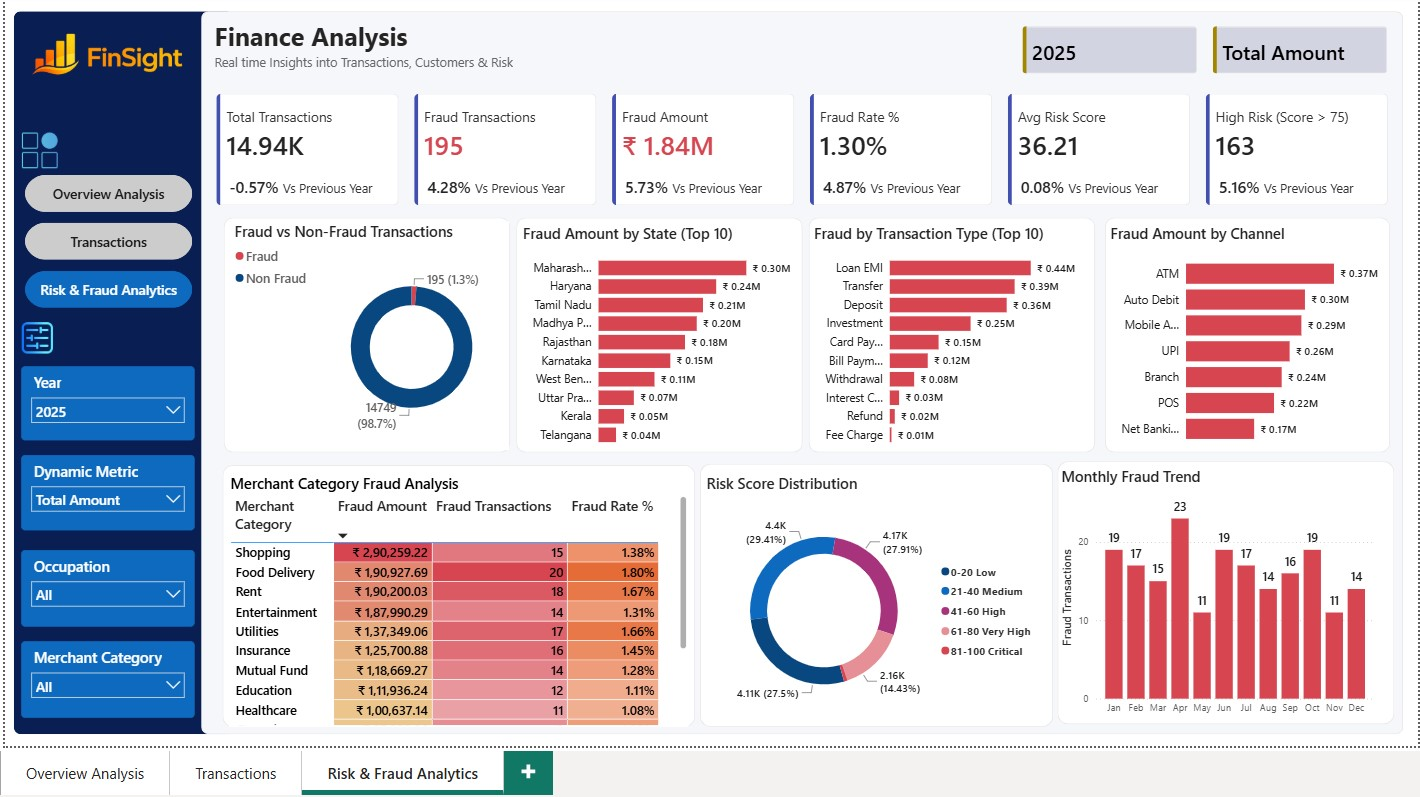

Layout of this report page (visuals, bound fields, positions):
{"tool":"powerbi","page":{"name":"Risk & Fraud Analytics","canvas":[1800,950],"ordinal":2},"visuals":[{"type":"shape","box":[11.4,14.7,279.6,920.6],"z":0},{"type":"shape","box":[250.2,14.7,1530.5,920.6],"z":1000},{"type":"image","box":[27.8,27.8,210.9,85],"z":2000},{"type":"cardVisual","fields":{"Data":["finance_transactions.Dashboard Title"]},"box":[250.2,14.7,421.9,85],"z":3000},{"type":"cardVisual","fields":{"Data":["All Measures.Total Transactions","All Second Measures.Fraud Transactions","All Second Measures.Fraud Amount","All Second Measures.Fraud Rate %","All Second Measures.Avg Risk Score","All Second Measures.High Risk Transactions"]},"box":[263.2,112.3,1505.3,154.4],"z":4000},{"type":"slicer","fields":{"Values":["Calander Table.Year"]},"box":[19.9,467.1,220.5,94.5],"z":5000},{"type":"slicer","fields":{"Values":["Parameter.Parameter"]},"box":[19.9,579.1,220.5,96.2],"z":6000},{"type":"cardVisual","fields":{"Data":["All Measures.Selected Dynammic Year","All Measures.Selected Dynamic Measures"]},"box":[1291.2,28.1,475.4,70.2],"z":7000},{"type":"shape","box":[1401.3,276.3,363,299.2],"z":8000},{"type":"barChart","title":"Fraud Amount by Channel","fields":{"Category":["finance_transactions.channel"],"Y":["All Second Measures.Fraud Amount"]},"box":[1406.3,281.3,353.2,291.1],"z":9000},{"type":"shape","box":[884.6,590.3,449.7,335.2],"z":10000},{"type":"donutChart","title":"Risk Score Distribution","fields":{"Category":["finance_transactions.Risk Category"],"Y":["Count(finance_transactions.transaction_id)"]},"box":[891.2,600.1,435,322.1],"z":11000},{"type":"shape","box":[276.3,591.9,601.7,333.6],"z":12000},{"type":"tableEx","title":"Merchant Category Fraud Analysis","fields":{"Values":["finance_transactions.merchant_category","All Second Measures.Fraud Amount","All Second Measures.Fraud Transactions","All Second Measures.Fraud Rate %"]},"box":[284.5,600.1,585.4,325.4],"z":13000},{"type":"shape","box":[1340.3,586.8,428.8,335.1],"z":14000},{"type":"columnChart","title":"Monthly Fraud Trend","fields":{"Category":["Calander Table.Months_Name"],"Y":["All Second Measures.Fraud Transactions"]},"box":[1345.5,593.8,418.4,321.2],"z":15000},{"type":"slicer","fields":{"Values":["customers.occupation"]},"box":[19.9,699.8,220.5,98],"z":16000},{"type":"slicer","fields":{"Values":["finance_transactions.merchant_category"]},"box":[19.9,817.1,220.5,98],"z":17000},{"type":"image","box":[17.5,168,54.2,45.5],"z":18000},{"type":"image","box":[14,407.7,54.2,45.5],"z":19000},{"type":"pageNavigator","box":[26,223.5,213.1,169.8],"z":20000},{"type":"shape","box":[278,276.3,364.6,299.2],"z":21000},{"type":"shape","box":[650.8,276.3,364.6,299.2],"z":22000},{"type":"shape","box":[1023.6,276.3,364.6,299.2],"z":23000},{"type":"donutChart","title":"Fraud vs Non-Fraud Transactions","fields":{"Y":["All Second Measures.Fraud Transactions","All Second Measures.Non Fraud Transactions"]},"box":[284,281.3,358.1,291],"z":24000},{"type":"barChart","title":"Fraud by Transaction Type (Top 10)","fields":{"Category":["finance_transactions.transaction_type"],"Y":["All Second Measures.Fraud Amount"]},"box":[1028.5,281.3,353.2,291.1],"z":25000},{"type":"barChart","title":"Fraud Amount by State (Top 10)","fields":{"Category":["customers.state"],"Y":["All Second Measures.Fraud Amount"]},"box":[657.3,281.3,353.2,291.1],"z":26000}]}

Visuals, with their boxes on the page's 1800x950 design canvas (x1, y1, x2, y2). These are canvas units, not pixel positions in the 1420x797 screenshot, which may show the page scaled, cropped or inside an application window:
shape: pyautogui.locateOnScreen(11, 15, 291, 935)
shape: pyautogui.locateOnScreen(250, 15, 1781, 935)
image: pyautogui.locateOnScreen(28, 28, 239, 113)
cardVisual - finance_transactions.Dashboard Title: pyautogui.locateOnScreen(250, 15, 672, 100)
cardVisual - All Measures.Total Transactions x All Second Measures.Fraud Transactions: pyautogui.locateOnScreen(263, 112, 1768, 267)
slicer - Calander Table.Year: pyautogui.locateOnScreen(20, 467, 240, 562)
slicer - Parameter.Parameter: pyautogui.locateOnScreen(20, 579, 240, 675)
cardVisual - All Measures.Selected Dynammic Year x All Measures.Selected Dynamic Measures: pyautogui.locateOnScreen(1291, 28, 1767, 98)
shape: pyautogui.locateOnScreen(1401, 276, 1764, 576)
"Fraud Amount by Channel" barChart: pyautogui.locateOnScreen(1406, 281, 1760, 572)
shape: pyautogui.locateOnScreen(885, 590, 1334, 926)
"Risk Score Distribution" donutChart: pyautogui.locateOnScreen(891, 600, 1326, 922)
shape: pyautogui.locateOnScreen(276, 592, 878, 926)
"Merchant Category Fraud Analysis" tableEx: pyautogui.locateOnScreen(284, 600, 870, 926)
shape: pyautogui.locateOnScreen(1340, 587, 1769, 922)
"Monthly Fraud Trend" columnChart: pyautogui.locateOnScreen(1346, 594, 1764, 915)
slicer - customers.occupation: pyautogui.locateOnScreen(20, 700, 240, 798)
slicer - finance_transactions.merchant_category: pyautogui.locateOnScreen(20, 817, 240, 915)
image: pyautogui.locateOnScreen(18, 168, 72, 214)
image: pyautogui.locateOnScreen(14, 408, 68, 453)
pageNavigator: pyautogui.locateOnScreen(26, 224, 239, 393)
shape: pyautogui.locateOnScreen(278, 276, 643, 576)
shape: pyautogui.locateOnScreen(651, 276, 1015, 576)
shape: pyautogui.locateOnScreen(1024, 276, 1388, 576)
"Fraud vs Non-Fraud Transactions" donutChart: pyautogui.locateOnScreen(284, 281, 642, 572)
"Fraud by Transaction Type (Top 10)" barChart: pyautogui.locateOnScreen(1028, 281, 1382, 572)
"Fraud Amount by State (Top 10)" barChart: pyautogui.locateOnScreen(657, 281, 1010, 572)
